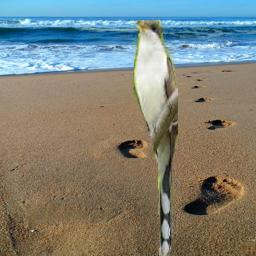Cuckoo: (132, 20, 178, 256)
